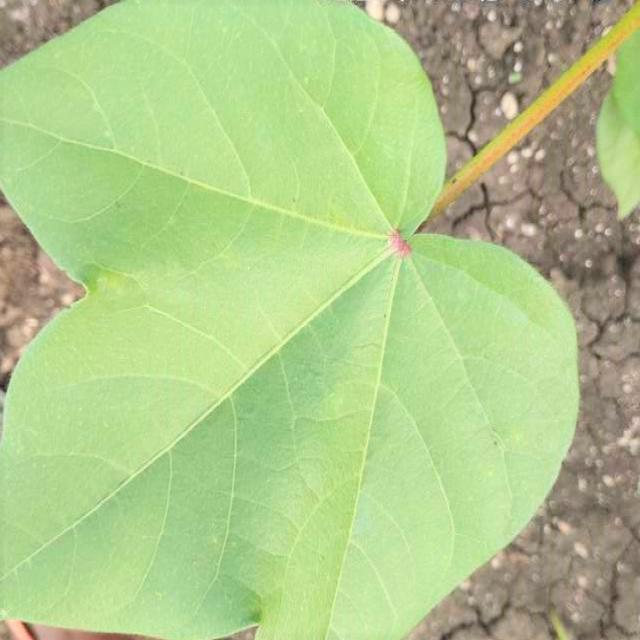Healthy Leaf: (103, 109, 309, 609)
